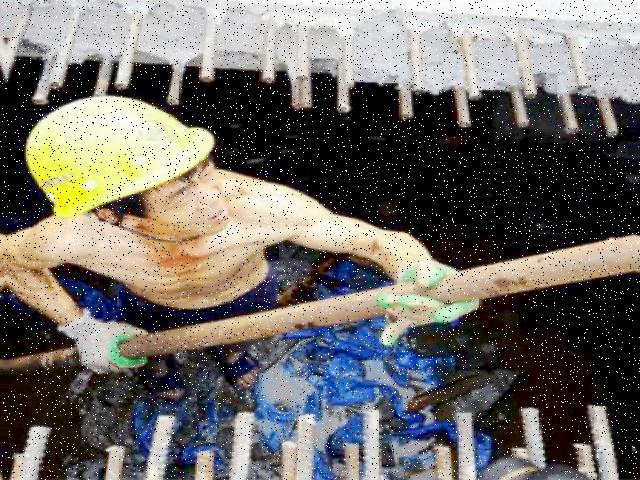Helmet: (25, 88, 221, 222)
